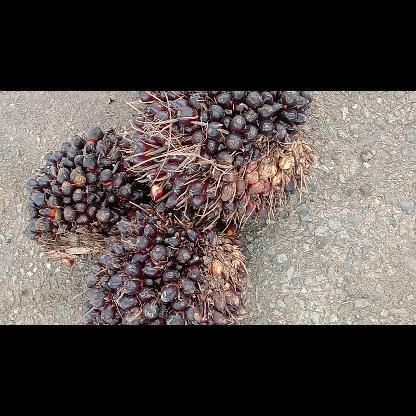TBS mentah: (130, 90, 312, 220), (80, 202, 246, 324), (25, 127, 144, 262)
